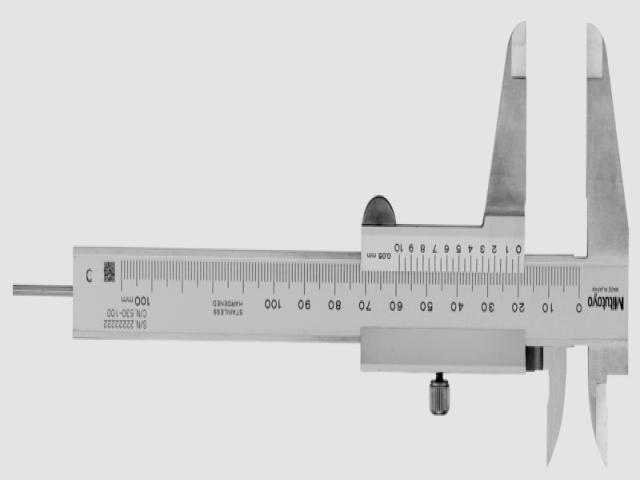Calipers: (14, 24, 629, 463)
